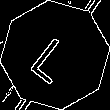L_NE: (27, 26, 83, 84)
